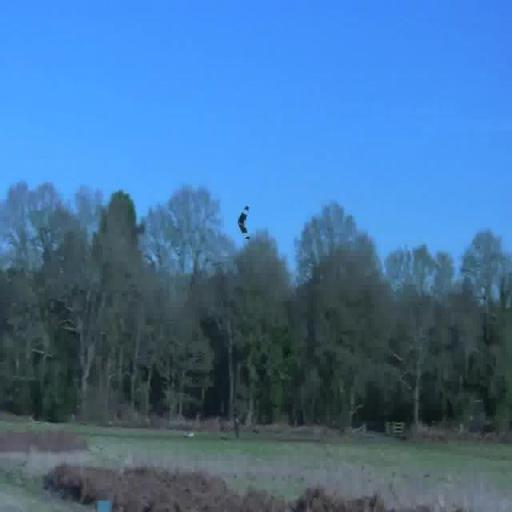uav: (237, 201, 254, 249)
